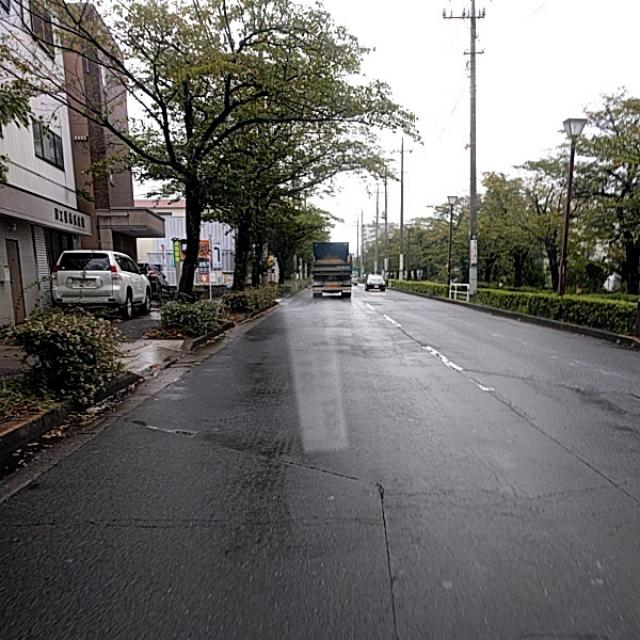pothole: (237, 445, 407, 526)
